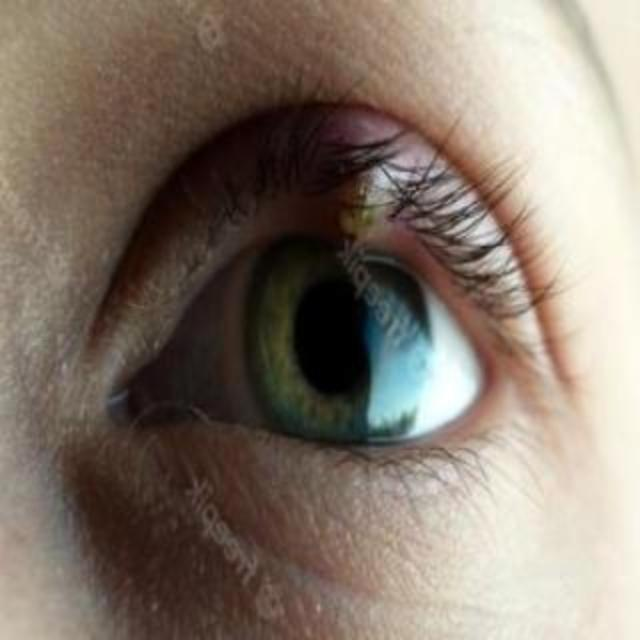Stye: (266, 117, 472, 295)
